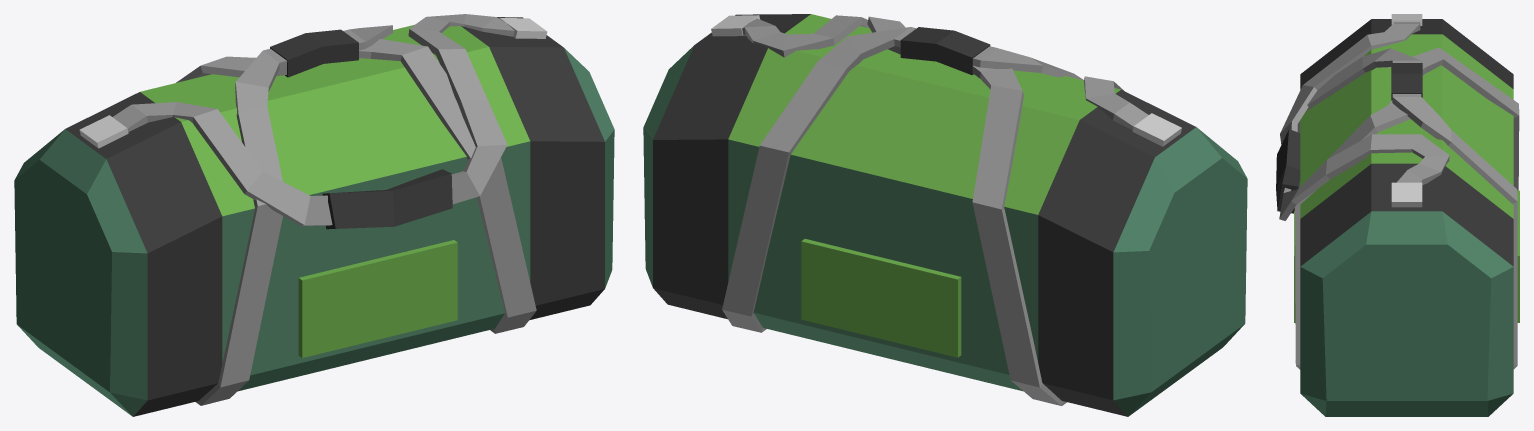
The model's file is Bag_02.glb.
The picture shows the model from 3 angles, left to right: view 1: azimuth 30°, elevation 25°; view 2: azimuth 150°, elevation 25°; view 3: azimuth 270°, elevation 25°; orthographic projection. The views are drawn at different scales.
Parts seen in each view (by area): view 1: Bag_2_mesh; view 2: Bag_2_mesh; view 3: Bag_2_mesh.
Part boxes in pixels (x1,y1,x2,y2): Bag_2_mesh: (14,14,614,416); Bag_2_mesh: (643,14,1247,416); Bag_2_mesh: (1276,14,1519,416).
Size of the model in its own units: 0.75 by 0.417 by 0.3658.
Materials: 1 (1 with a texture image).
